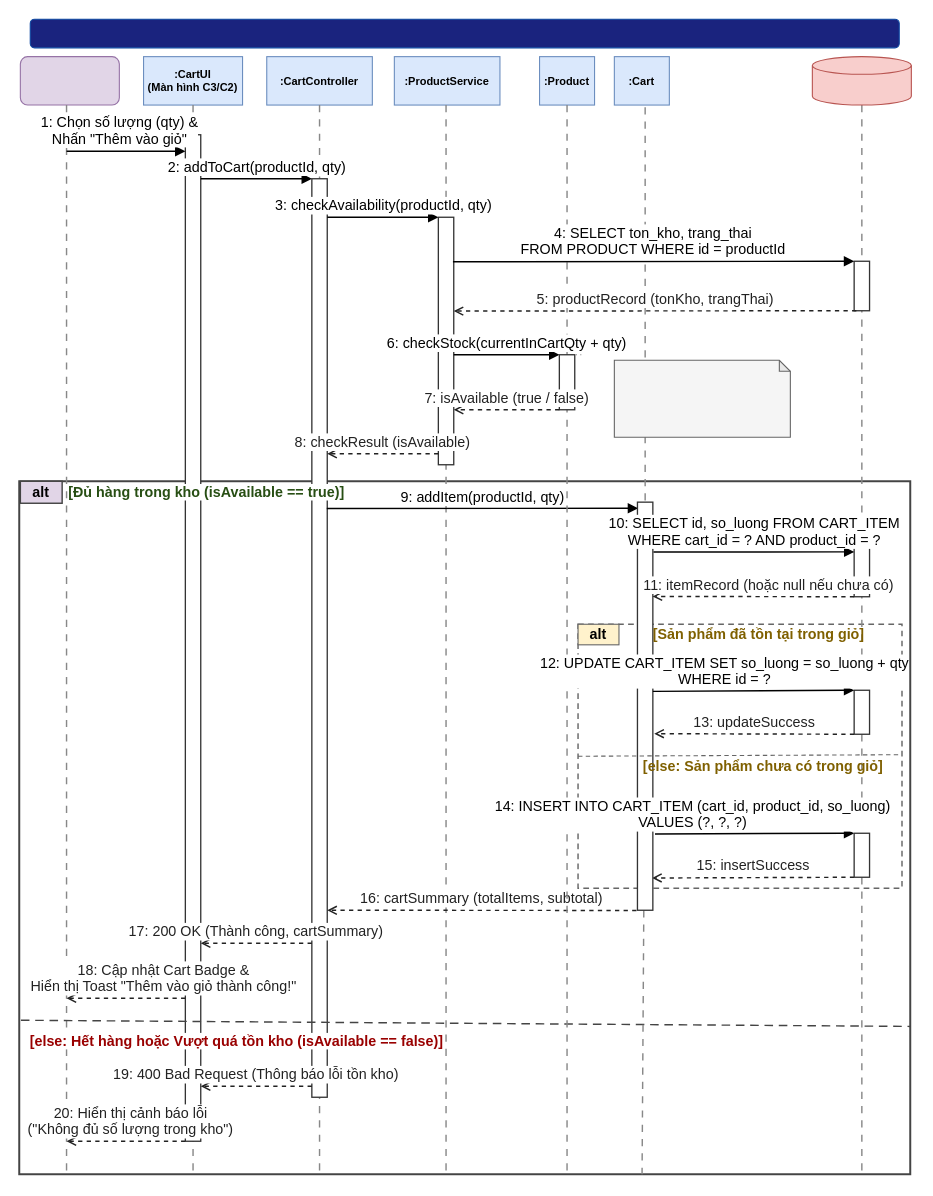
Image size: 933x1196. Some labels were removed from this diagram. Here are the shapes that lost their labels. From the top down, the centre of each, then its label:
point (464, 33): SD1 – THÊM VÀO GIỎ (UC10)
point (69, 80): Khách hàng (Guest/Customer)
point (861, 80): :Database
point (701, 398): Kiểm tra BR2: (SL giỏ + SL thêm) <= ton_kho
